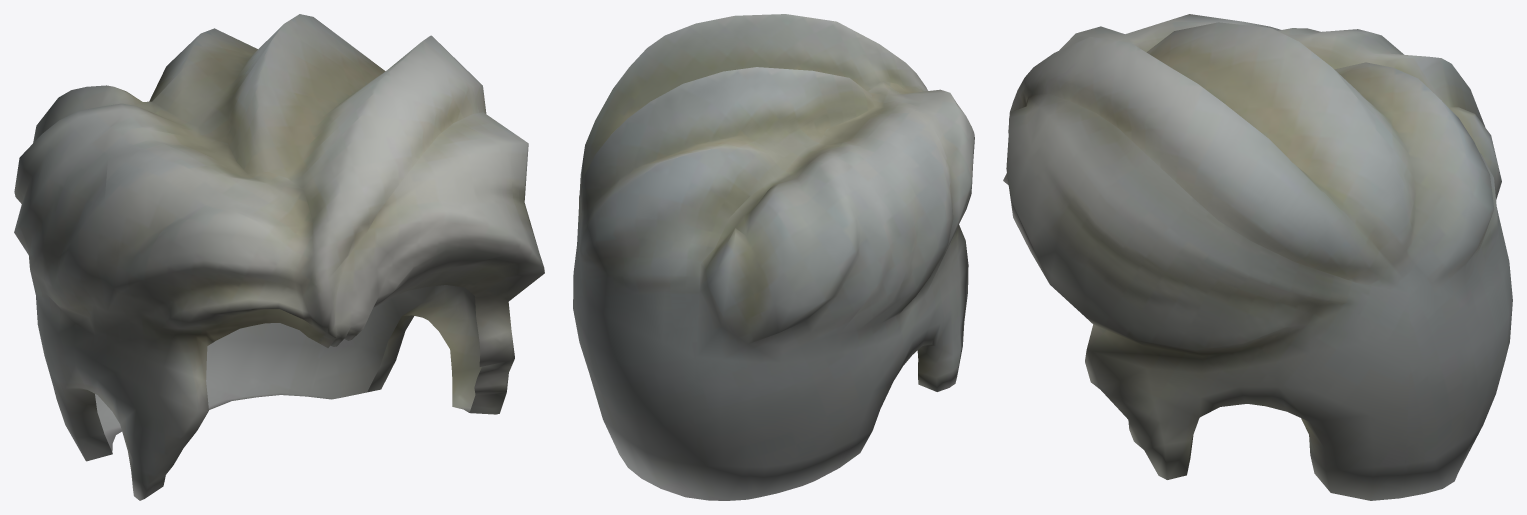
The model's file is hair-simpleparted.glb.
3 views of the same model, side by side, from view 1: azimuth 30°, elevation 25°; view 2: azimuth 150°, elevation 25°; view 3: azimuth 270°, elevation 25° (orthographic). The views are drawn at different scales.
Parts seen in each view (by area): view 1: Hair_SimpleParted; view 2: Hair_SimpleParted; view 3: Hair_SimpleParted.
Boxes of the visible parts, x1,y1,x2,y2 form: Hair_SimpleParted: [14, 14, 544, 500]; Hair_SimpleParted: [573, 14, 974, 500]; Hair_SimpleParted: [1003, 14, 1512, 500].
Bounding box in the file's own units: 0.1754 × 0.1792 × 0.1869.
1 material, 1 textured.
